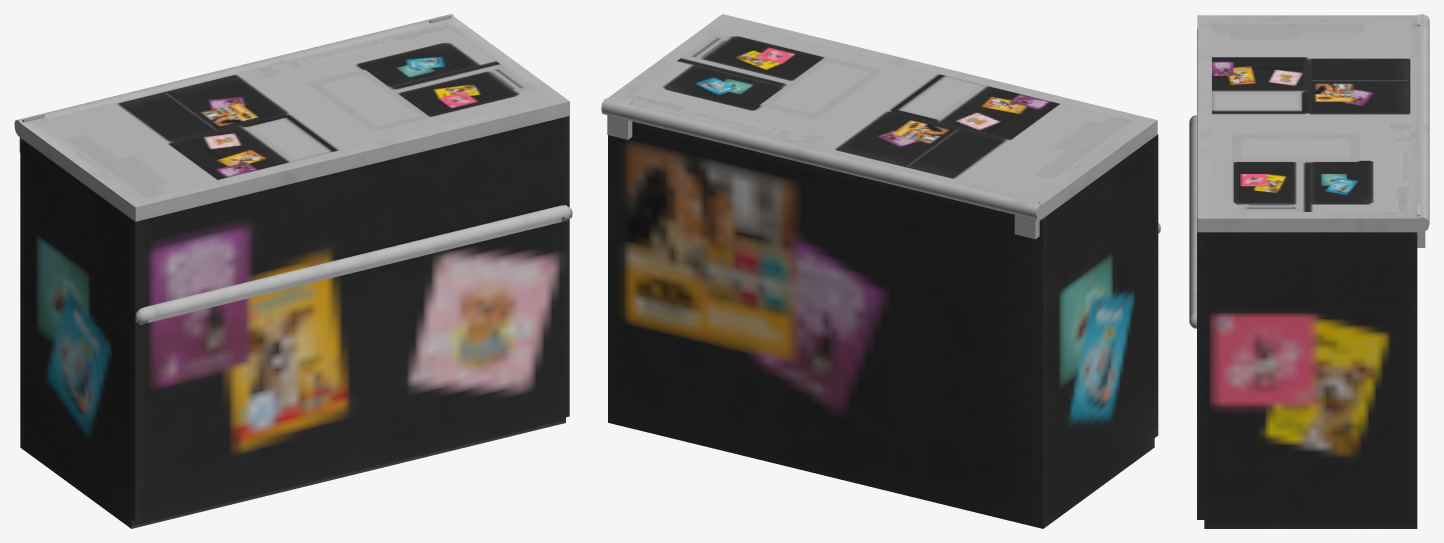
3 renders of one model, left to right at view 1: azimuth 30°, elevation 25°; view 2: azimuth 150°, elevation 25°; view 3: azimuth 270°, elevation 25°, orthographic. The views are drawn at different scales.
Parts seen in each view (by area): view 1: Freezer_9olxw5, glass1, Freezer_9olxw5_Door; view 2: Freezer_9olxw5, glass1, Freezer_9olxw5_Door; view 3: Freezer_9olxw5, glass1, Freezer_9olxw5_Door.
Part boxes in pixels (x1,y1,x2,y2): Freezer_9olxw5: (19, 16, 572, 528); glass1: (38, 23, 547, 198); Freezer_9olxw5_Door: (14, 14, 569, 221); Freezer_9olxw5: (607, 96, 1160, 528); glass1: (625, 23, 1135, 197); Freezer_9olxw5_Door: (601, 14, 1157, 220); Freezer_9olxw5: (1189, 14, 1425, 528); glass1: (1212, 22, 1410, 211); Freezer_9olxw5_Door: (1197, 14, 1429, 232).
Size of the model in its own units: 156 by 112 by 78.
